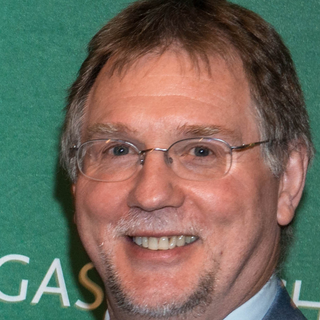eye: (178, 138, 220, 171), (99, 139, 138, 160)
